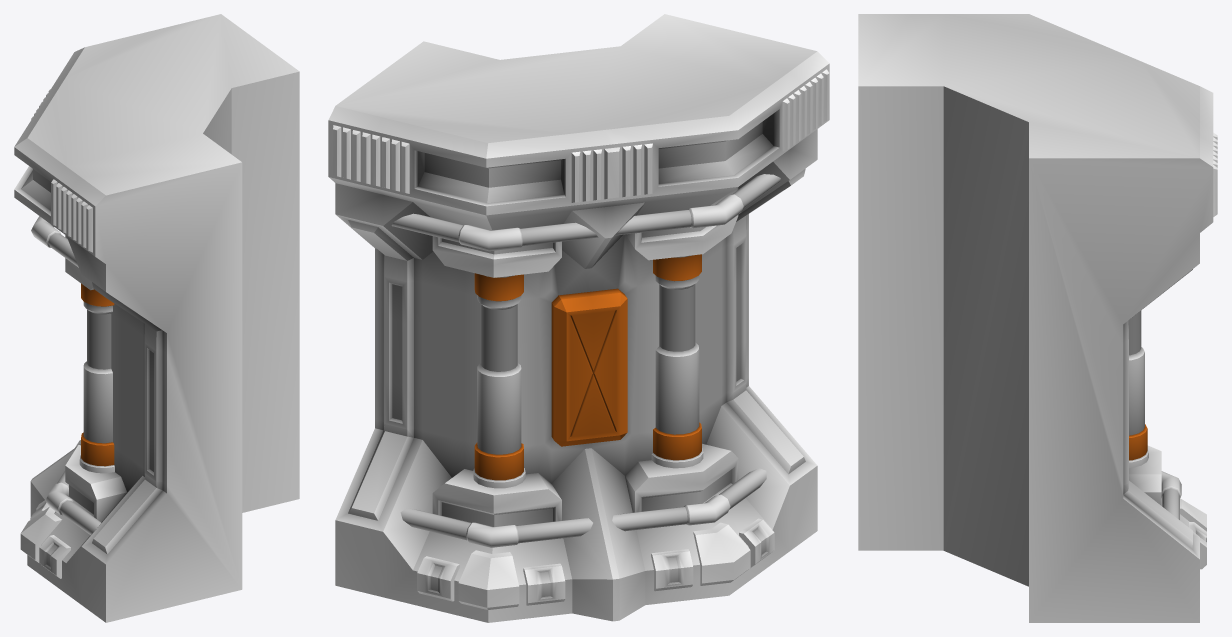
Rendered from wallCurveOut_A.FBX.
3 renders of one model, left to right at view 1: azimuth 30°, elevation 25°; view 2: azimuth 150°, elevation 25°; view 3: azimuth 270°, elevation 25°, orthographic. The views are drawn at different scales.
Parts seen in each view (by area): view 1: wallCurveOut_A; view 2: wallCurveOut_A; view 3: wallCurveOut_A.
Part boxes in pixels (x1,y1,x2,y2): wallCurveOut_A: (14, 14, 299, 622); wallCurveOut_A: (328, 14, 829, 622); wallCurveOut_A: (858, 14, 1217, 622).
Size of the model in its own units: 2.1 by 3 by 2.1.
